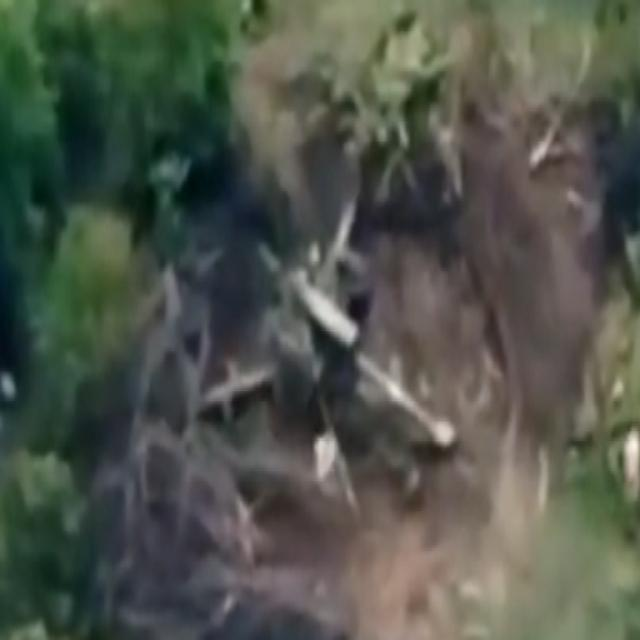ART: (190, 188, 459, 536)
